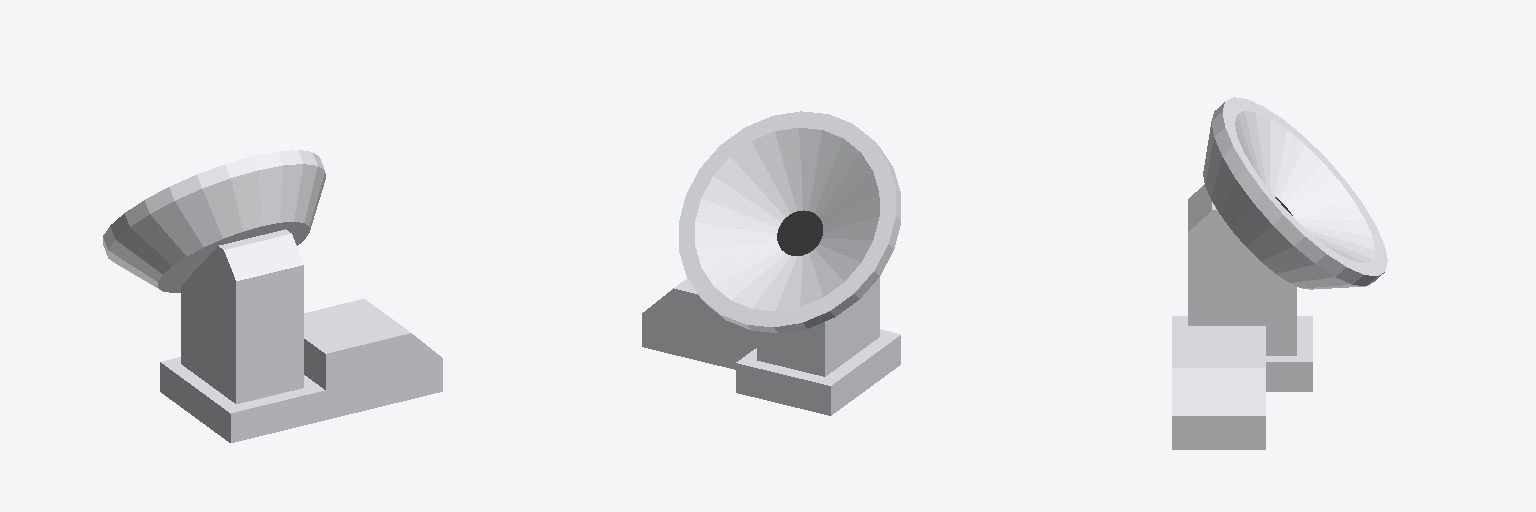
File: radarEquipment.obj
The picture shows the model from 3 angles: view 1: azimuth 30°, elevation 25°; view 2: azimuth 150°, elevation 25°; view 3: azimuth 270°, elevation 25°; orthographic projection.
Visible parts, largest first — view 1: radarEquipment; view 2: radarEquipment; view 3: radarEquipment.
Boxes of the visible parts, x1,y1,x2,y2 form: radarEquipment: [103, 150, 442, 442]; radarEquipment: [642, 111, 900, 415]; radarEquipment: [1172, 97, 1387, 449].
Size of the model in its own units: 5.89 by 5.43 by 4.13.